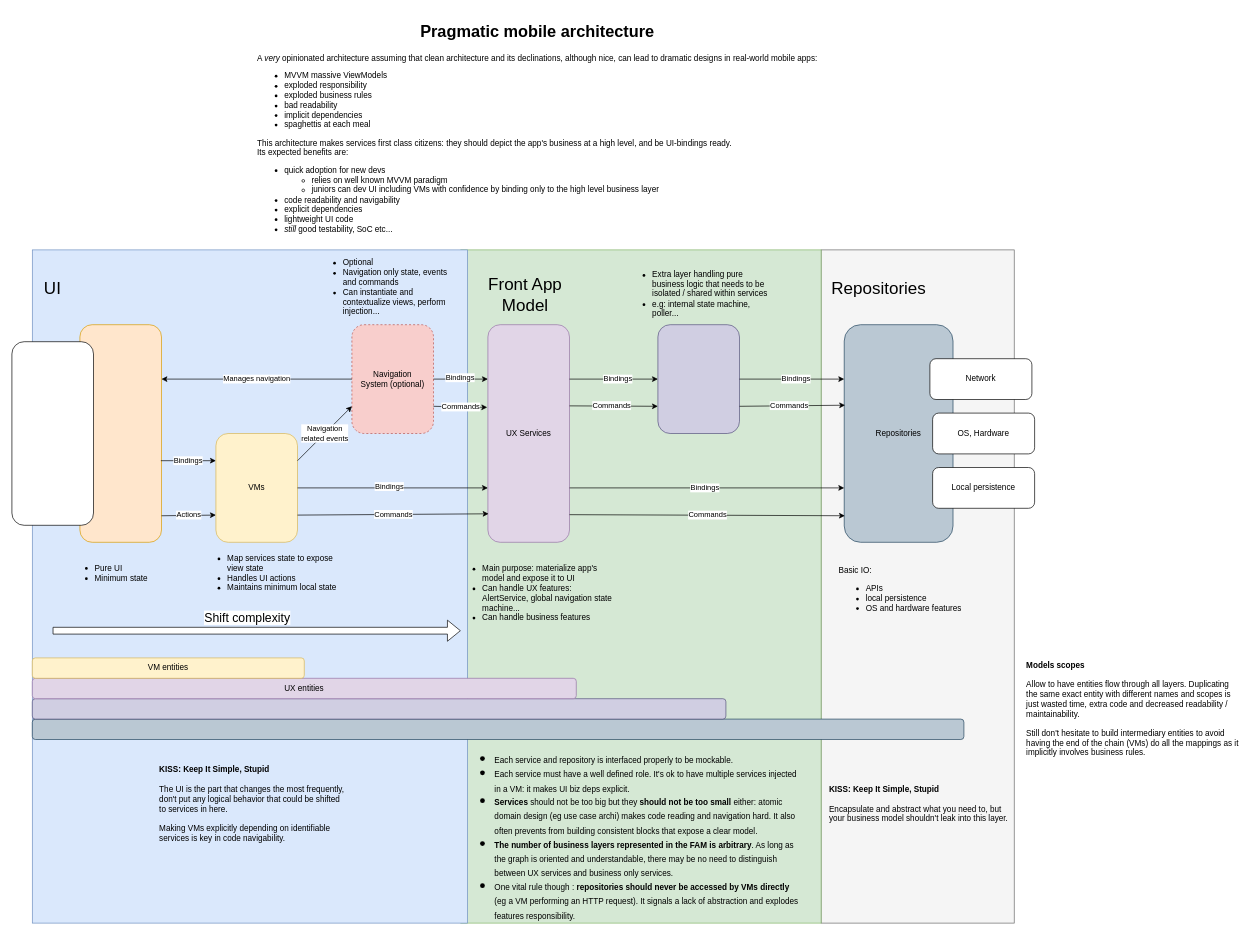
The diagram is 1255 pixels wide and 945 high, and some of its shapes have lost their labels. Each missing label, with the centre of its shape:
Business entities: pixel 379 708
Business Only Services: pixel 698 379
Display: pixel 52 433
IO entities: pixel 498 729
Views: pixel 120 433
